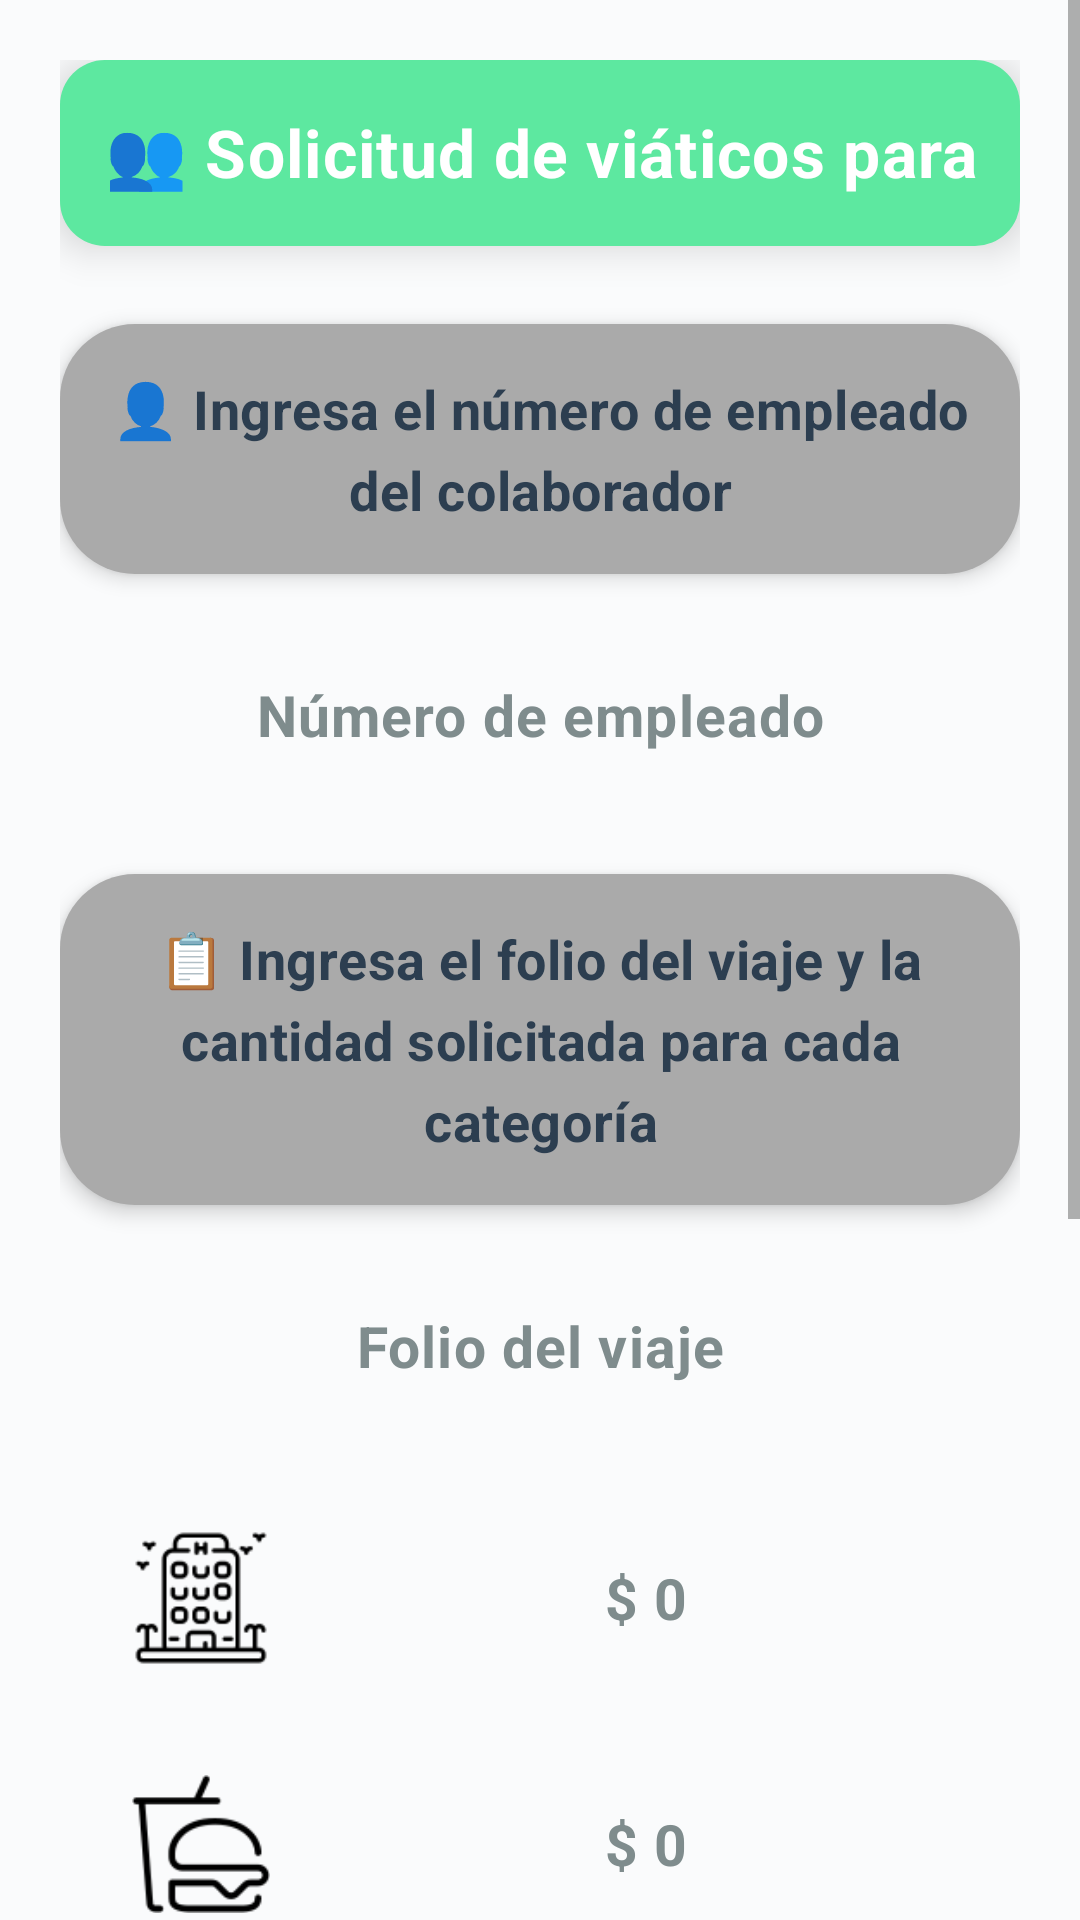

Point at icon controls on the screen. Image size 1080px×1920px, points as (x,y).
comida: (201,1844)
hotel: (201,1598)
